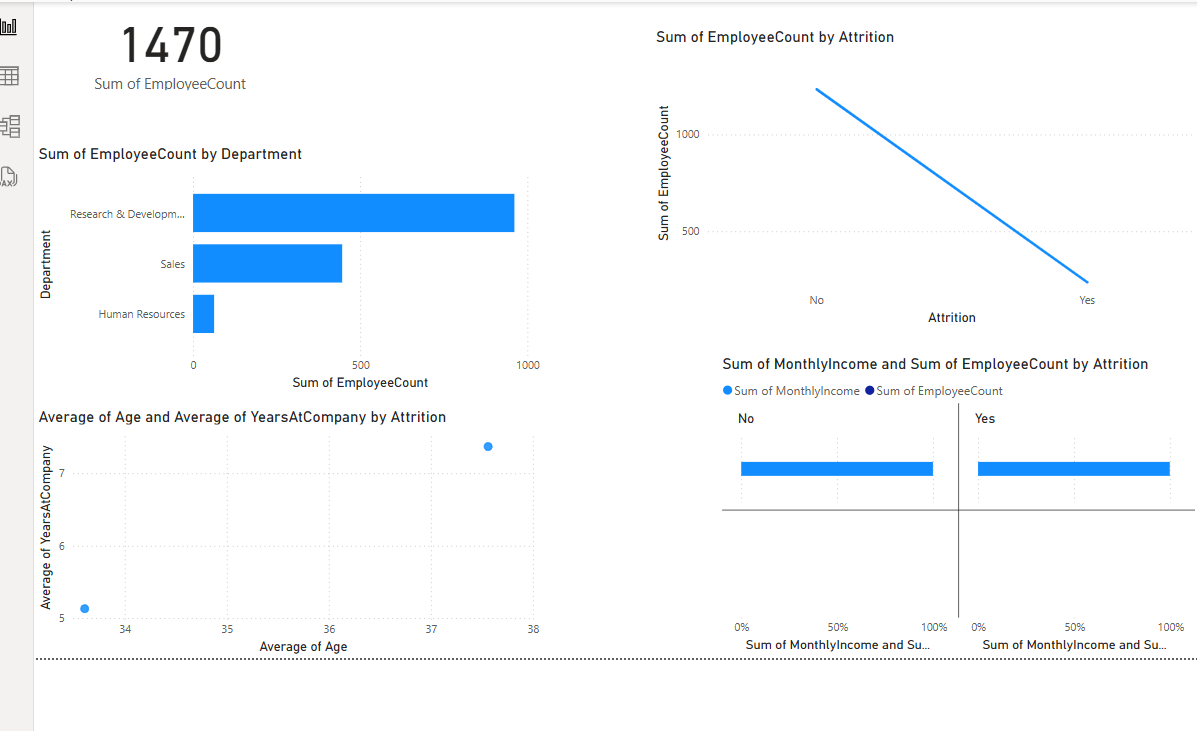

What the dashboard file says about the page in this screenshot:
{"tool":"powerbi","page":{"name":"Page 1","canvas":[1280,720],"ordinal":0},"visuals":[{"type":"card","fields":{"Values":["Sum(WA_Fn-UseC_-HR-Employee-Attrition.EmployeeCount)"]},"box":[9.6,0,279.9,101.5],"z":0},{"type":"lineChart","fields":{"Category":["WA_Fn-UseC_-HR-Employee-Attrition.Attrition"],"Y":["Sum(WA_Fn-UseC_-HR-Employee-Attrition.EmployeeCount)"]},"box":[677.9,27.4,602.4,332.1],"z":1},{"type":"barChart","fields":{"Category":["WA_Fn-UseC_-HR-Employee-Attrition.Department"],"Y":["Sum(WA_Fn-UseC_-HR-Employee-Attrition.EmployeeCount)"]},"box":[0,156.4,559.9,274.4],"z":2},{"type":"hundredPercentStackedBarChart","fields":{"Y":["Sum(WA_Fn-UseC_-HR-Employee-Attrition.MonthlyIncome)","Sum(WA_Fn-UseC_-HR-Employee-Attrition.EmployeeCount)"],"Rows":["WA_Fn-UseC_-HR-Employee-Attrition.Attrition"]},"box":[750.6,387,529.7,333.4],"z":3},{"type":"scatterChart","fields":{"X":["Avg(WA_Fn-UseC_-HR-Employee-Attrition.Age)"],"Category":["WA_Fn-UseC_-HR-Employee-Attrition.Attrition"],"Y":["Avg(WA_Fn-UseC_-HR-Employee-Attrition.YearsAtCompany)"]},"box":[0,444.6,559.9,275.8],"z":4}]}

Visuals, with their boxes on the page's 1280x720 design canvas (x1, y1, x2, y2). These are canvas units, not pixel positions in the 1197x731 screenshot, which may show the page scaled, cropped or inside an application window:
card - Sum(WA_Fn-UseC_-HR-Employee-Attrition.EmployeeCount): bbox(10, 0, 290, 102)
lineChart - WA_Fn-UseC_-HR-Employee-Attrition.Attrition x Sum(WA_Fn-UseC_-HR-Employee-Attrition.EmployeeCount): bbox(678, 27, 1280, 360)
barChart - WA_Fn-UseC_-HR-Employee-Attrition.Department x Sum(WA_Fn-UseC_-HR-Employee-Attrition.EmployeeCount): bbox(0, 156, 560, 431)
hundredPercentStackedBarChart - Sum(WA_Fn-UseC_-HR-Employee-Attrition.MonthlyIncome) x Sum(WA_Fn-UseC_-HR-Employee-Attrition.EmployeeCount): bbox(751, 387, 1280, 720)
scatterChart - Avg(WA_Fn-UseC_-HR-Employee-Attrition.Age) x WA_Fn-UseC_-HR-Employee-Attrition.Attrition: bbox(0, 445, 560, 720)
